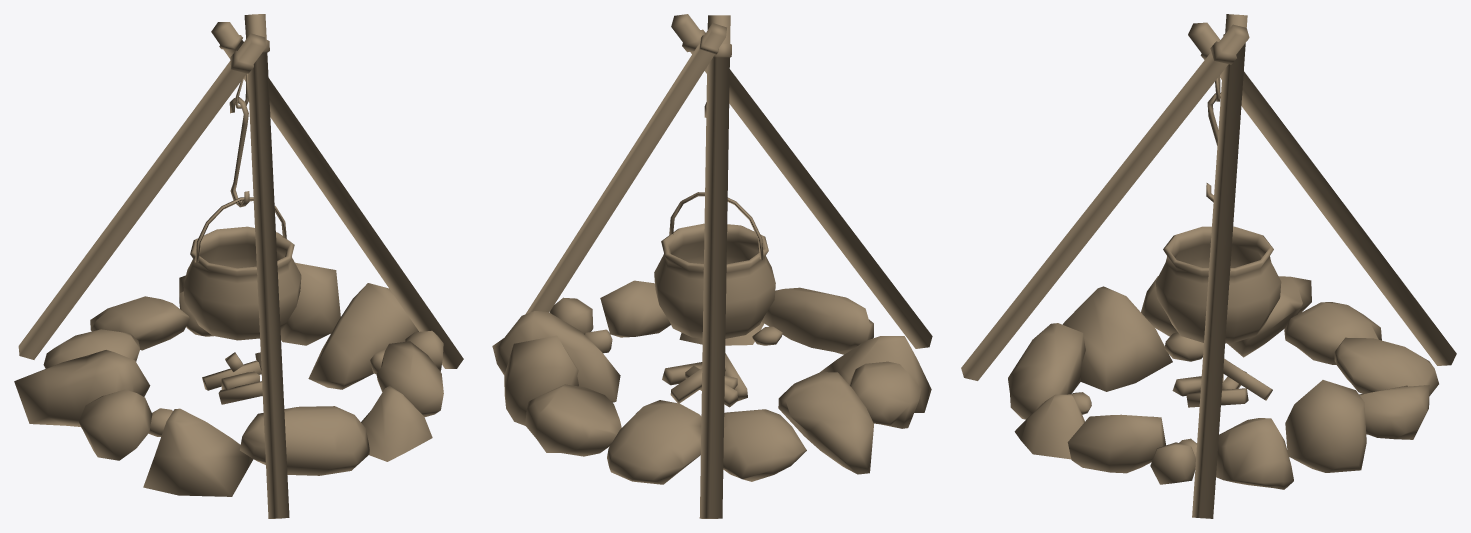
File: firecamp.fbx
The picture shows the model from 3 angles, left to right: view 1: azimuth 30°, elevation 25°; view 2: azimuth 150°, elevation 25°; view 3: azimuth 270°, elevation 25°; orthographic projection. The views are drawn at different scales.
Visible parts, largest first — view 1: firecamp.001; view 2: firecamp.001; view 3: firecamp.001.
Boxes of the visible parts, bbox=[...] form: firecamp.001: bbox=[14, 14, 463, 518]; firecamp.001: bbox=[492, 14, 932, 518]; firecamp.001: bbox=[961, 14, 1456, 518].
Bounding box in the file's own units: 242 × 230 × 252.
